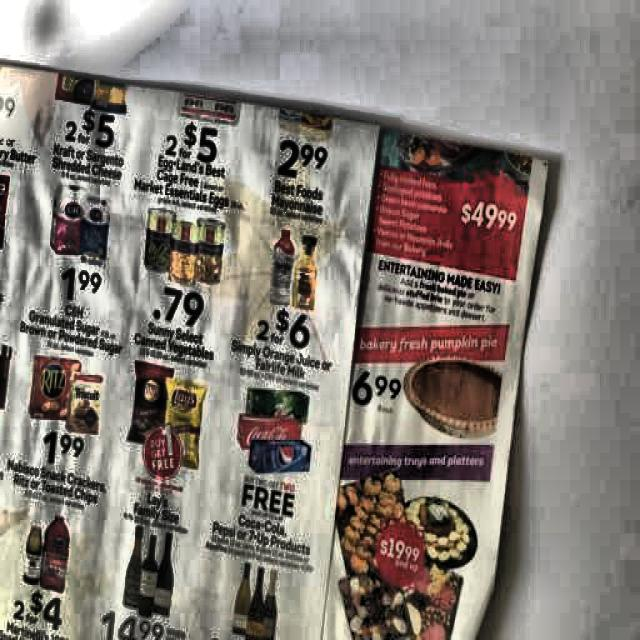paper: (0, 64, 546, 640)
